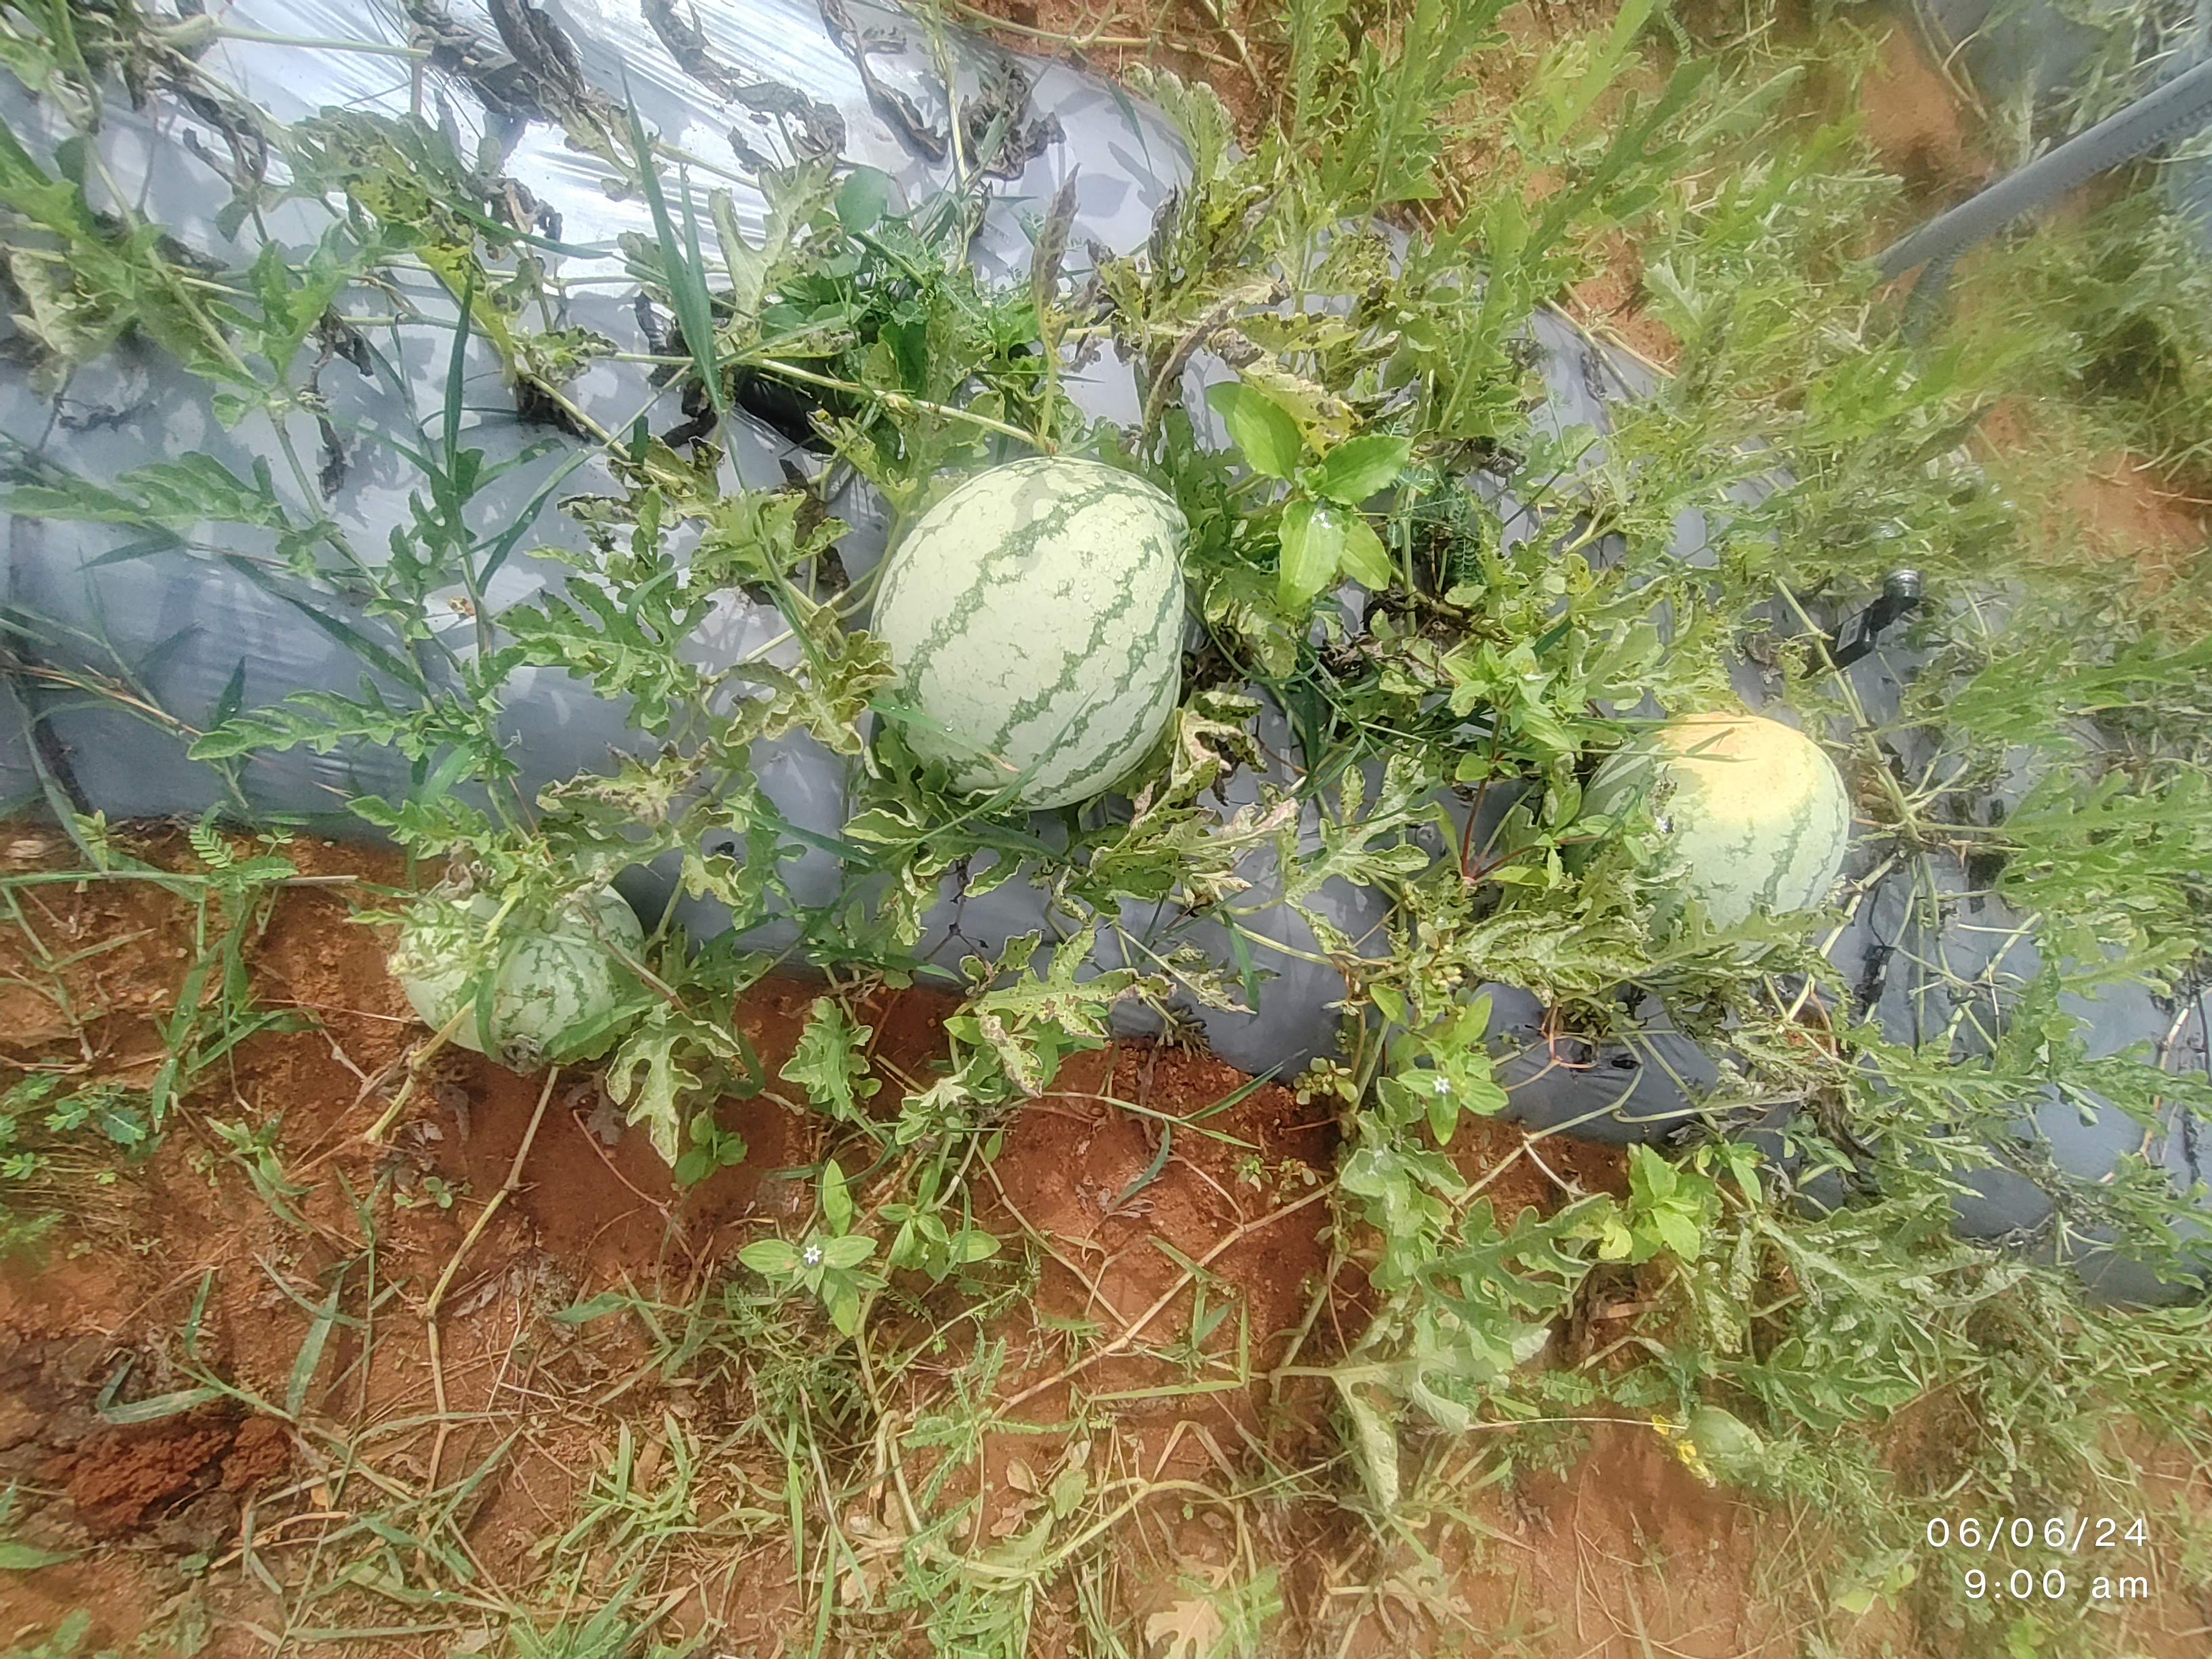not-good-to-harvest: (834, 354, 1252, 816), (1496, 641, 1914, 1002), (359, 779, 719, 1084)
